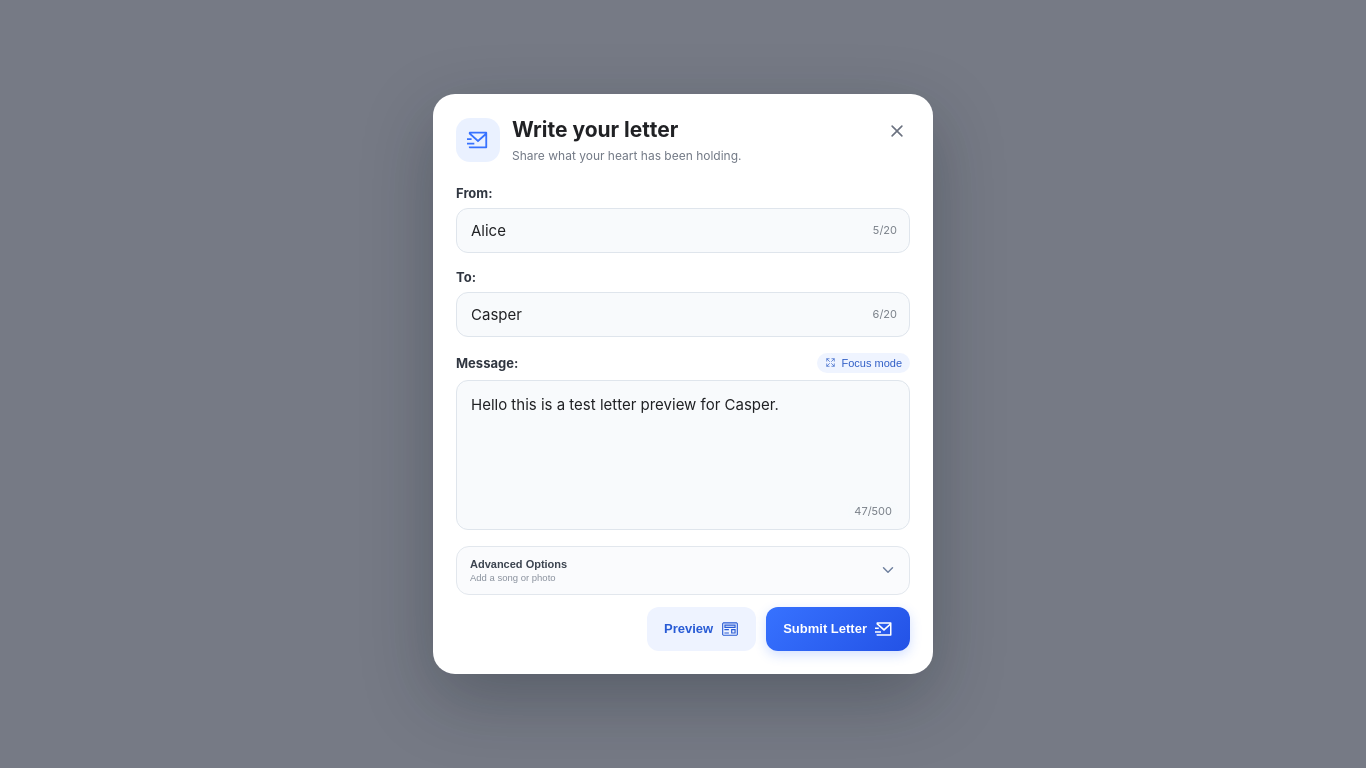
Test case: letter preview renders the International Fallback stamp instead of the Default Domestic Fallback stamp
Click the button "Preview".
click(702, 629)  # box [647,607,756,651]
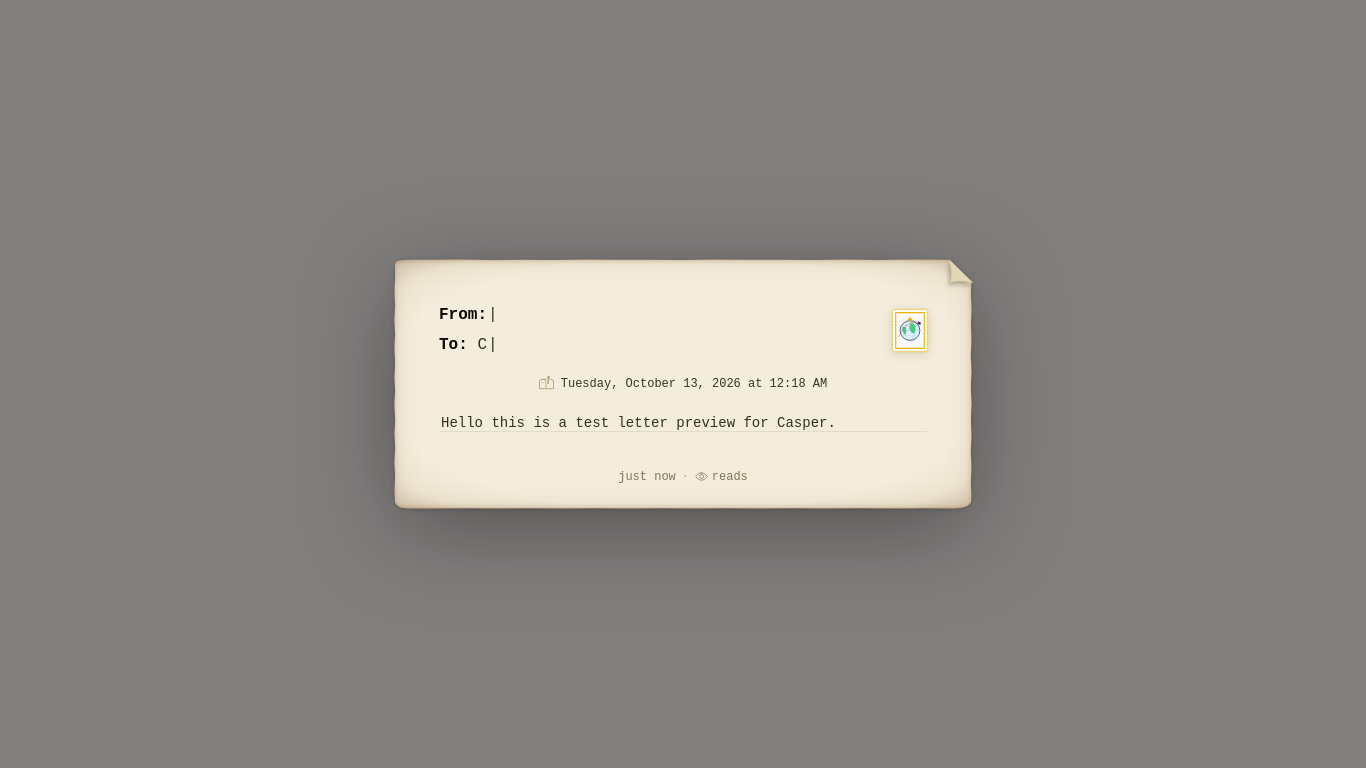
expect the icon with class "letter-card__main-stamp--international" is shown: met, box [893,310,927,351]
